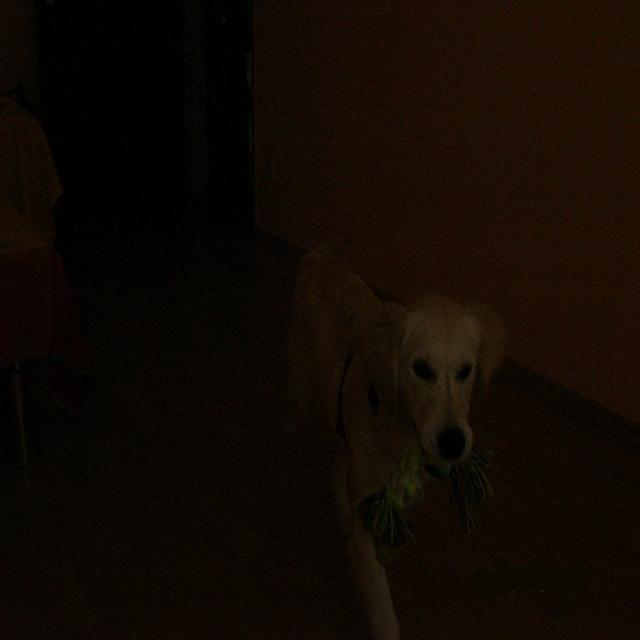dog: (228, 280, 562, 640)
